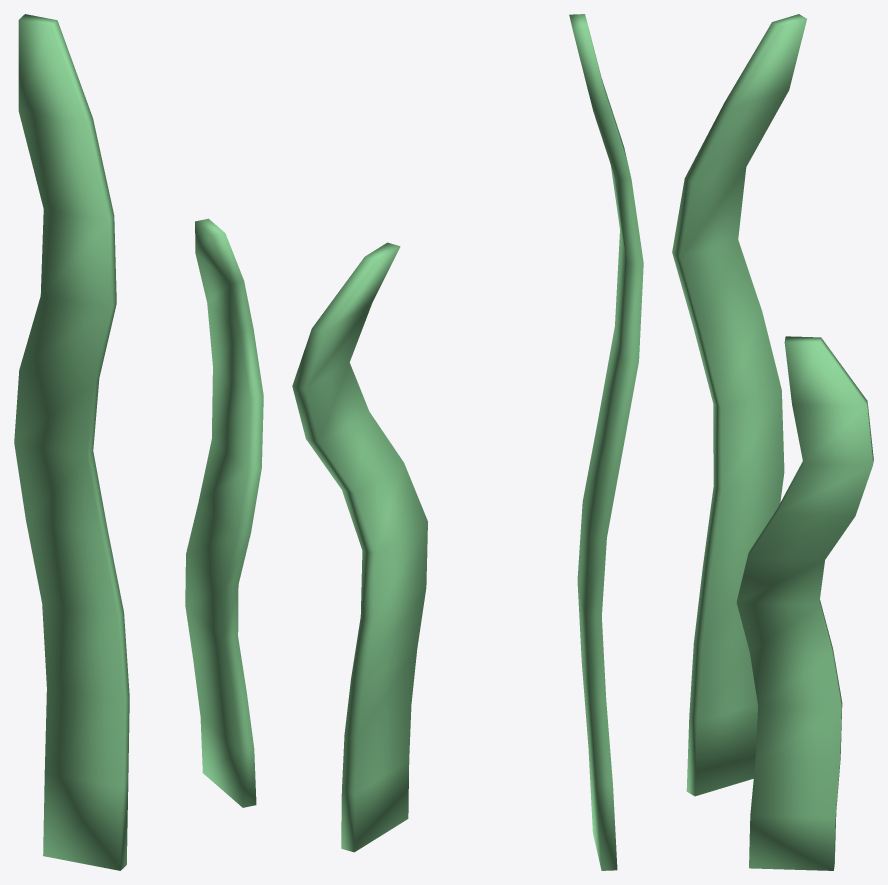
Rendered from Small1.fbx.
3 renders of one model, left to right at view 1: azimuth 30°, elevation 25°; view 2: azimuth 150°, elevation 25°; view 3: azimuth 270°, elevation 25°, orthographic. The views are drawn at different scales.
Parts seen in each view (by area): view 1: Small1_EXPORT; view 2: Small1_EXPORT; view 3: Small1_EXPORT.
Part boxes in pixels (left/top/right/bottom): Small1_EXPORT: left=14, top=14, right=263, bottom=870; Small1_EXPORT: left=292, top=14, right=643, bottom=870; Small1_EXPORT: left=672, top=14, right=873, bottom=870.
Size of the model in its own units: 0.9089 by 2.67 by 0.6439.
